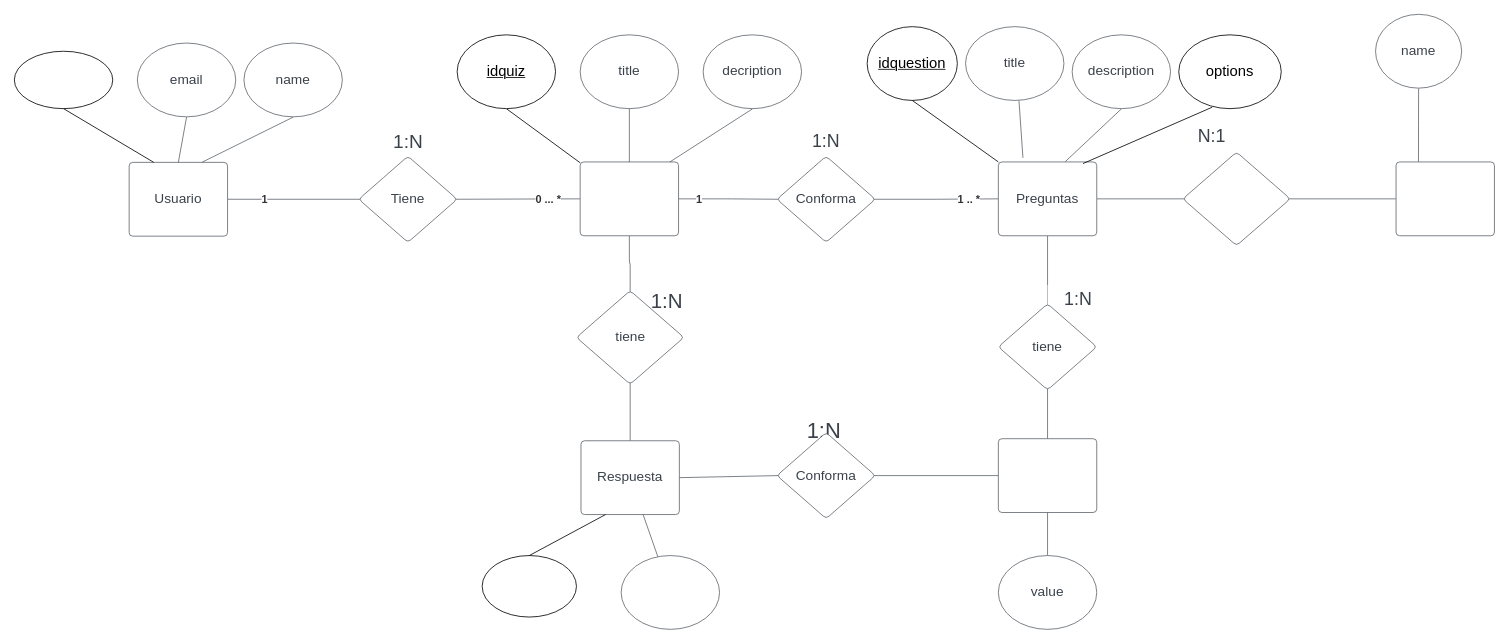
This 1509x644 diagram has some shape labels left out. The centre of each missing label's shape, as x and y in pixels:
date: point 669,592
Encuesta: point 628,198
es de: point 1236,198
idanswerquiz: point 528,586
iduser: point 63,79
Respuesta de Preguntas: point 1047,475
Tipo Pregunta: point 1444,198
